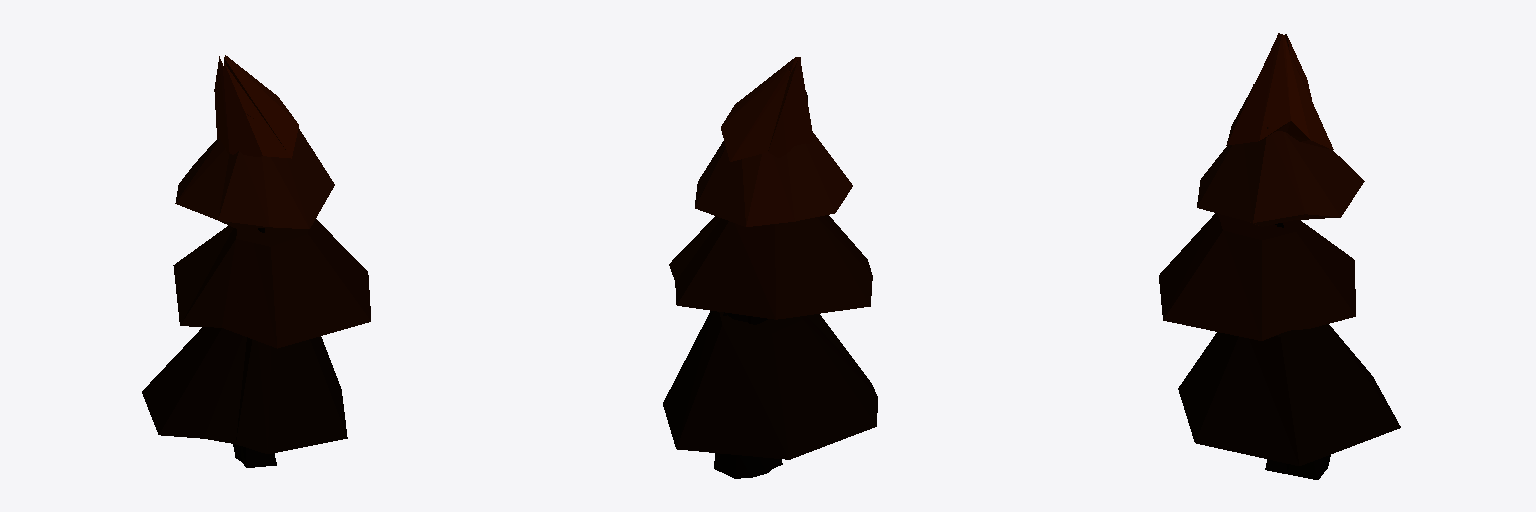
The model's file is lowpolypine2.obj.
3 renders of one model, left to right at view 1: azimuth 30°, elevation 25°; view 2: azimuth 150°, elevation 25°; view 3: azimuth 270°, elevation 25°, orthographic.
Visible parts, largest first — view 1: Cylinder.001_Cylinder.002, Cylinder.002_Cylinder.003, Cylinder.003_Cylinder.004, Cylinder.004_Cylinder.005, Cylinder_Cylinder.001; view 2: Cylinder.001_Cylinder.002, Cylinder.002_Cylinder.003, Cylinder.003_Cylinder.004, Cylinder.004_Cylinder.005, Cylinder_Cylinder.001; view 3: Cylinder.001_Cylinder.002, Cylinder.002_Cylinder.003, Cylinder.003_Cylinder.004, Cylinder.004_Cylinder.005, Cylinder_Cylinder.001.
Part boxes in pixels (x1,y1,x2,y2): Cylinder.001_Cylinder.002: (142,327,347,453); Cylinder.002_Cylinder.003: (173,219,370,348); Cylinder.003_Cylinder.004: (175,112,334,229); Cylinder.004_Cylinder.005: (214,55,298,158); Cylinder_Cylinder.001: (233,228,276,467); Cylinder.001_Cylinder.002: (663,311,877,459); Cylinder.002_Cylinder.003: (669,215,872,319); Cylinder.003_Cylinder.004: (695,133,852,226); Cylinder.004_Cylinder.005: (721,57,813,161); Cylinder_Cylinder.001: (714,312,782,478); Cylinder.001_Cylinder.002: (1178,324,1400,465); Cylinder.002_Cylinder.003: (1159,213,1355,340); Cylinder.003_Cylinder.004: (1197,127,1364,226); Cylinder.004_Cylinder.005: (1226,33,1333,149); Cylinder_Cylinder.001: (1265,223,1330,479).
Size of the model in its own units: 2.44 by 4.68 by 2.48.